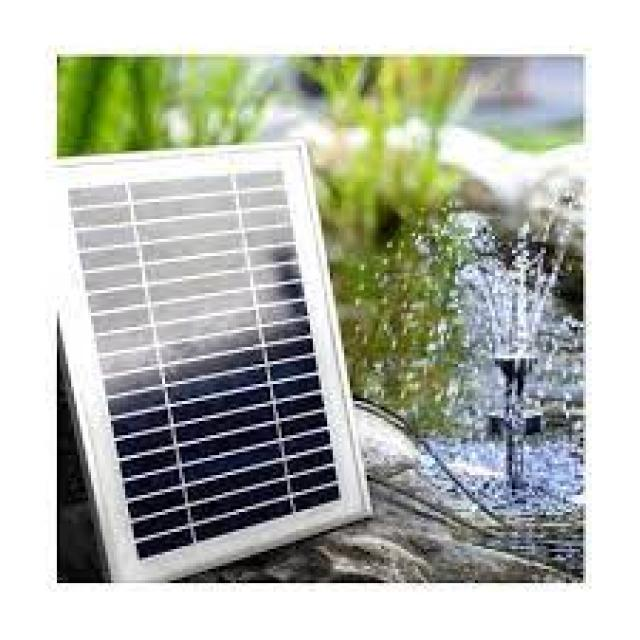no faulty: (74, 158, 332, 572)
